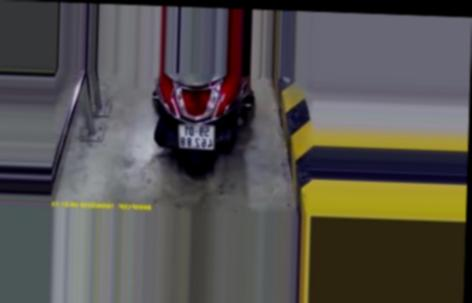License_Plate: (176, 121, 220, 152)
